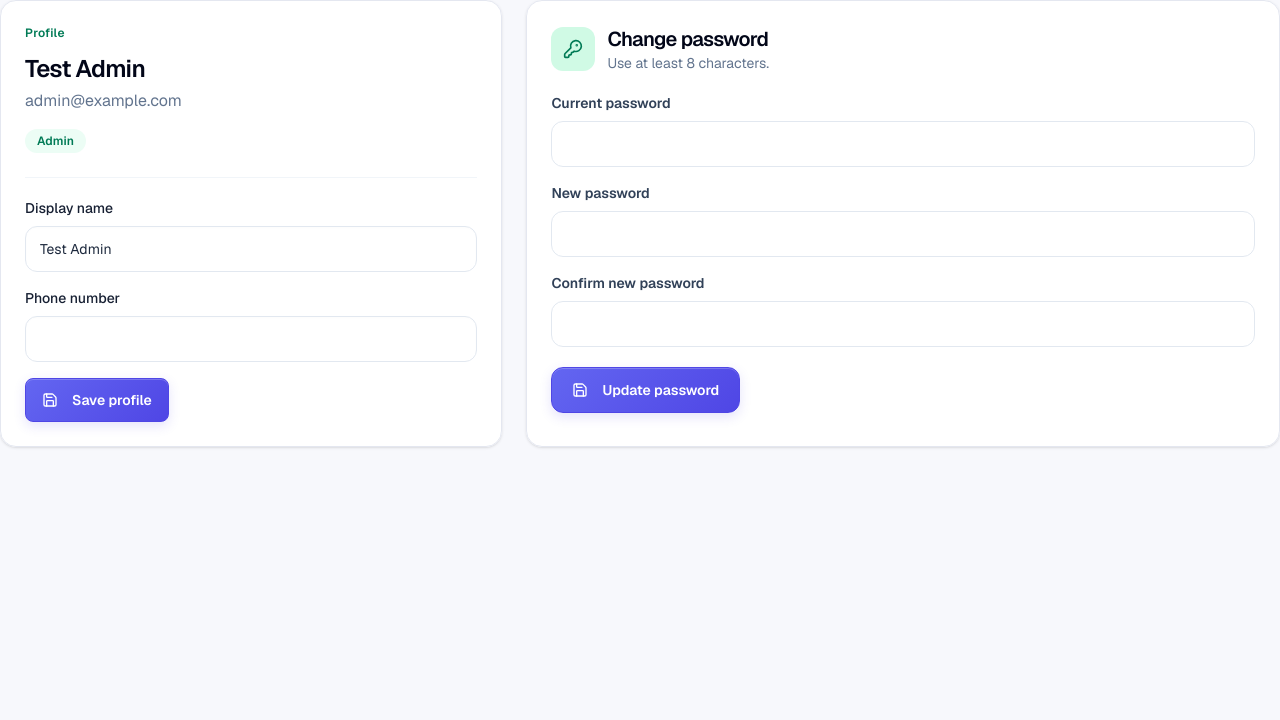
Scenario: account and provider management › submits current and new passwords and clears sensitive fields
Type "Current@123" into the password field labelled "Current password" at (903, 144), box [551,121,1255,167]
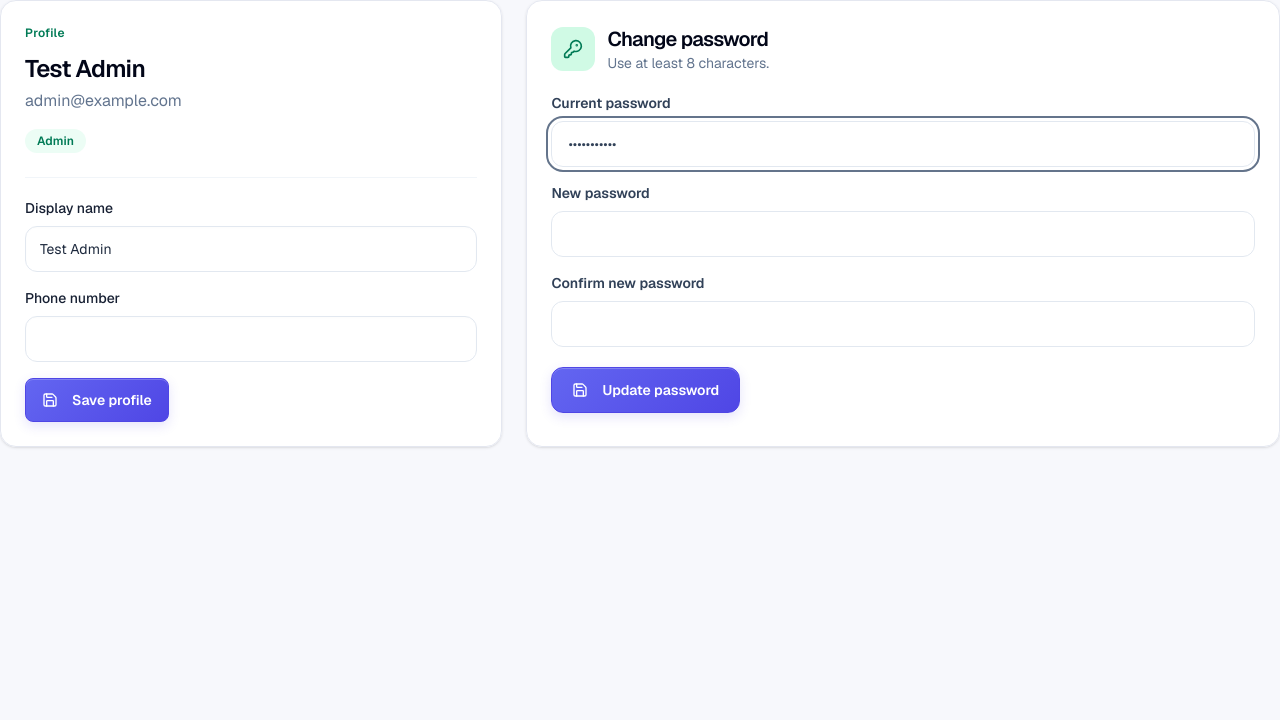
Type "Changed@123" into the password field labelled "New password" at (903, 234), box [551,211,1255,257]
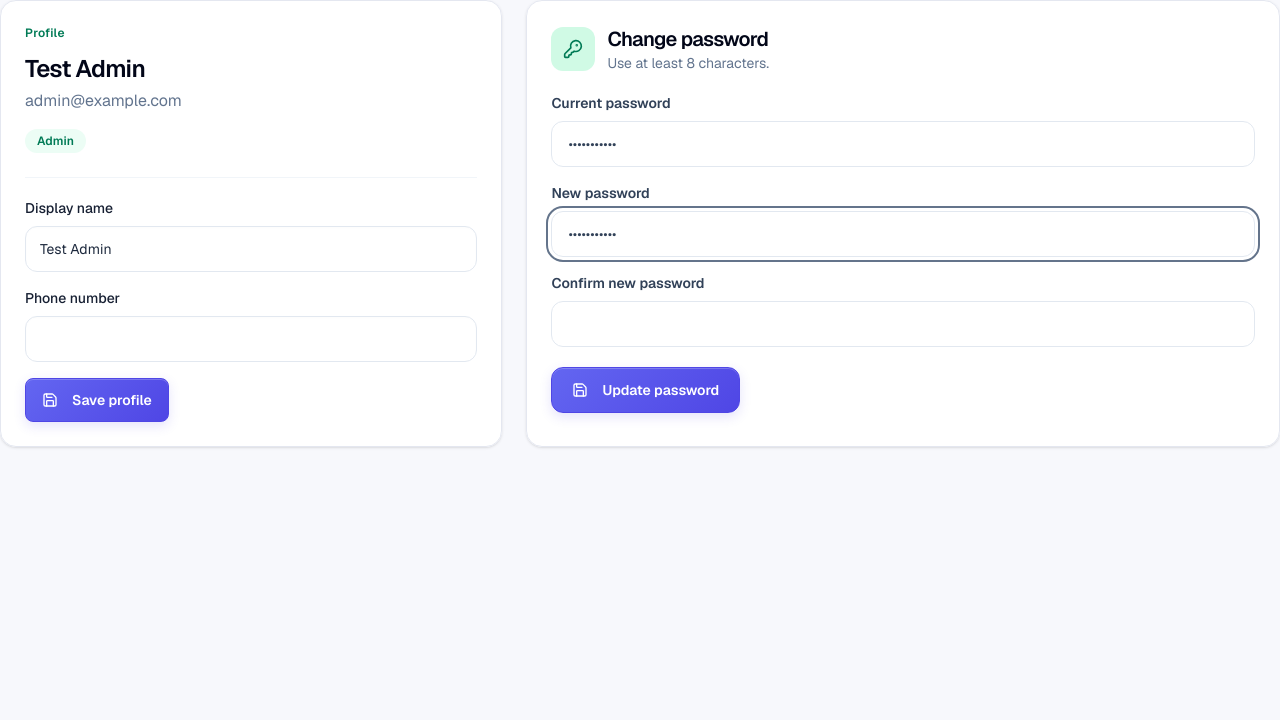
Type "Changed@123" into the password field labelled "Confirm new password" at (903, 324), box [551,301,1255,347]
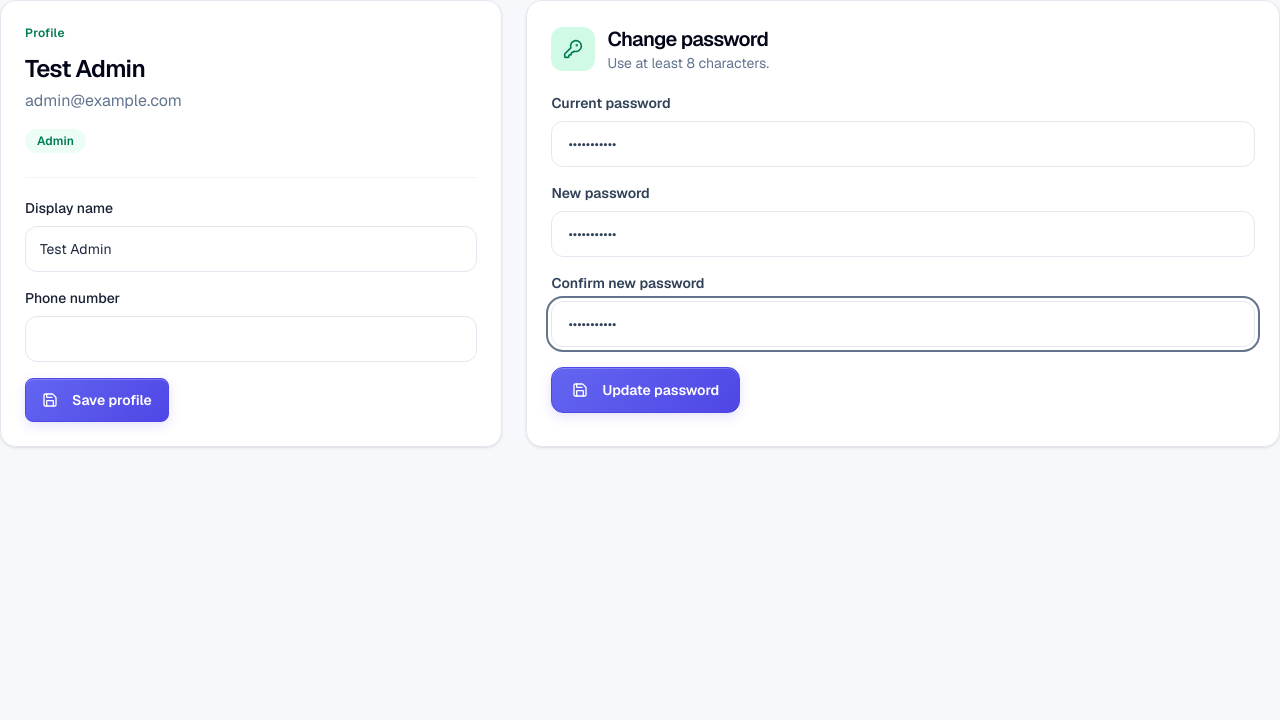
Click the button "Update password" at (646, 390), box [551,367,740,413]
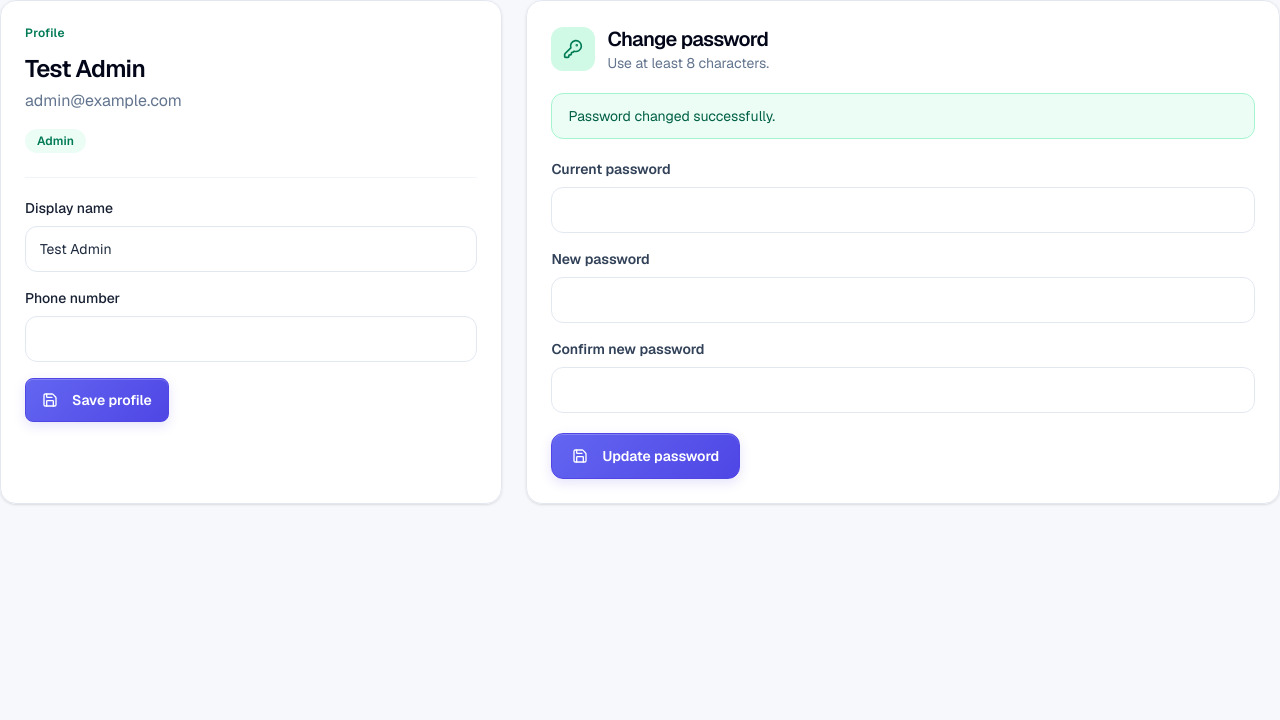
Result: the text "Password changed successfully." is shown at [551,93,1255,139]
Result: the password field labelled "Current password" is empty at [551,187,1255,233]
Result: the password field labelled "New password" is empty at [551,277,1255,323]
